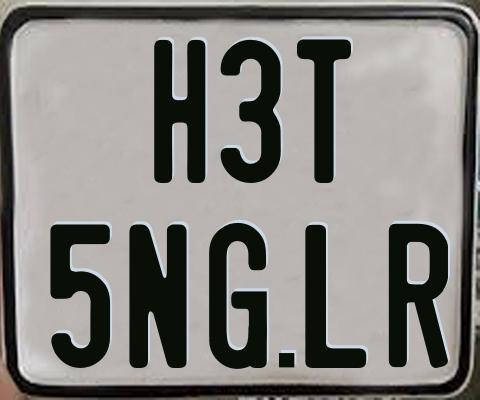3: (218, 38, 285, 186)
5: (47, 224, 112, 369)
G: (208, 222, 271, 368)
H: (153, 38, 207, 181)
L: (303, 222, 364, 366)
N: (129, 221, 189, 366)
R: (389, 223, 449, 371)
T: (296, 36, 353, 181)
